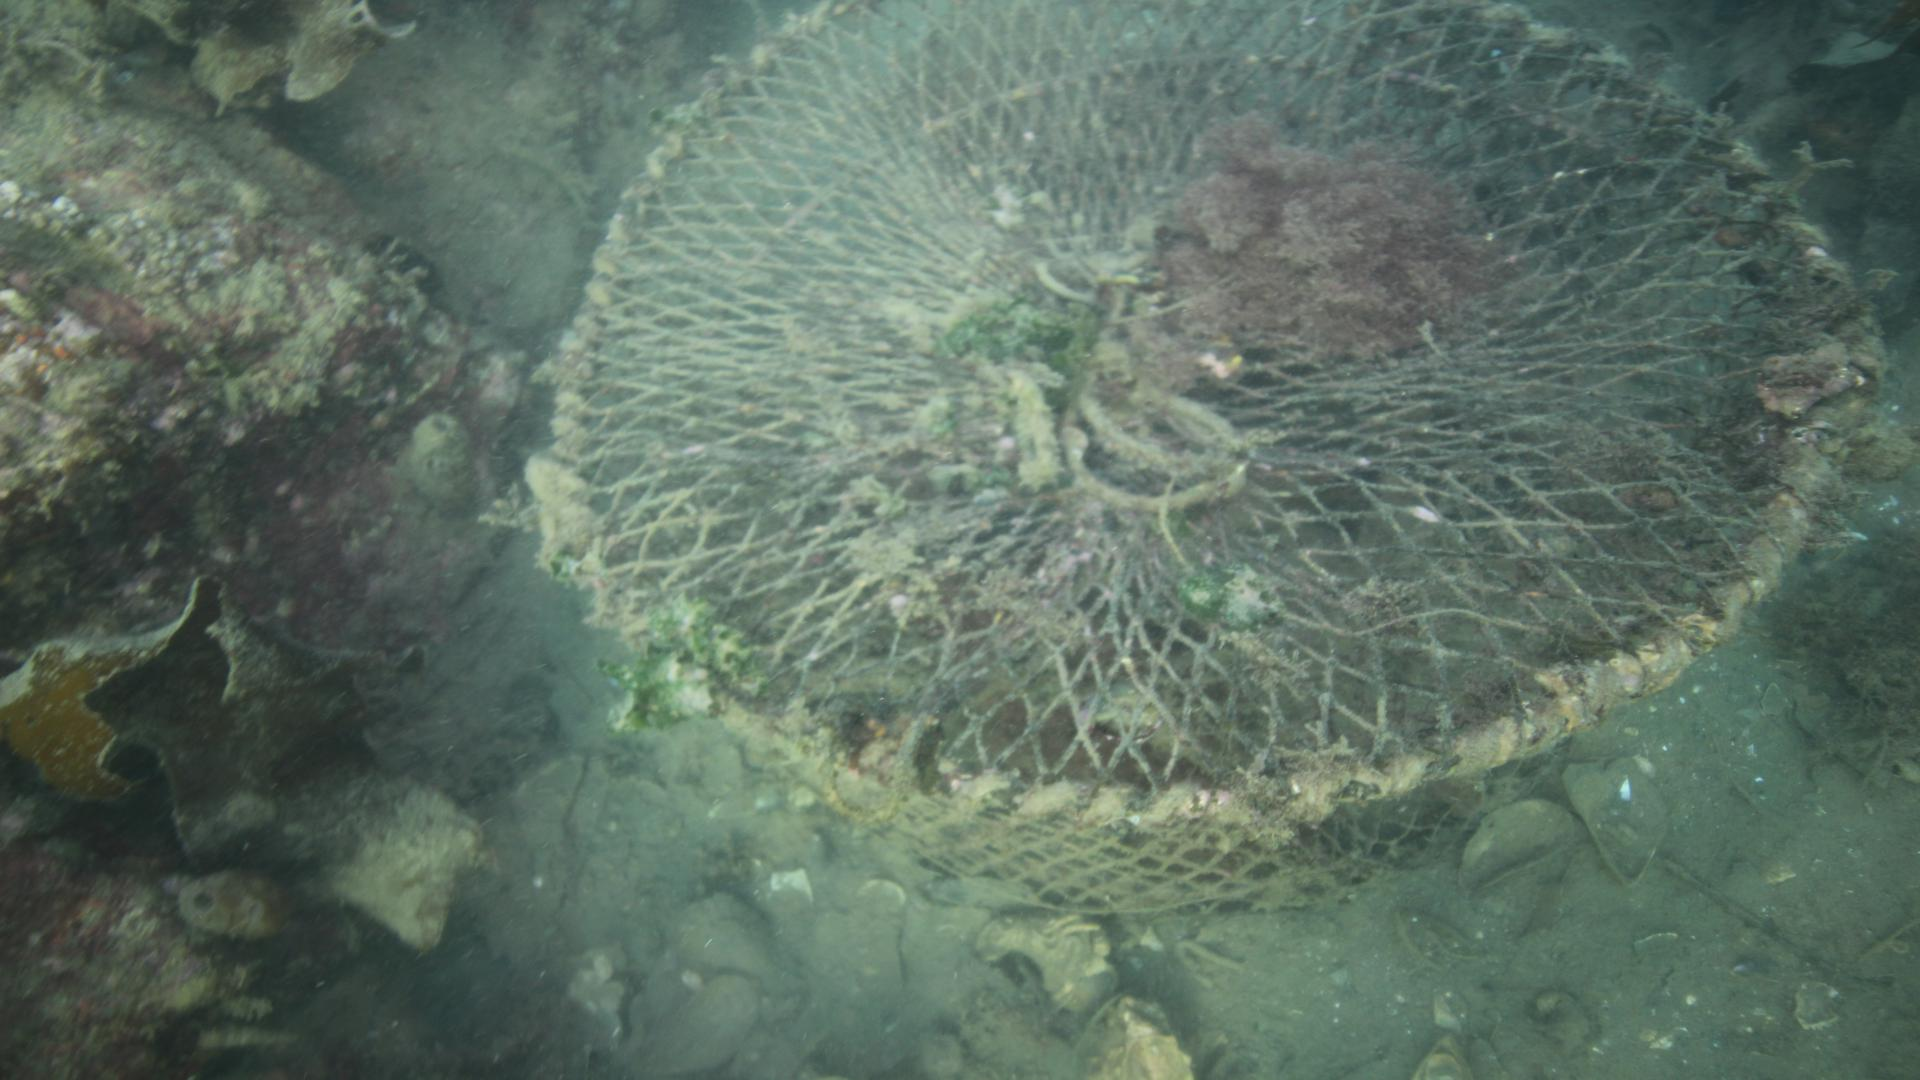circular fish trap: (520, 0, 1854, 916)
